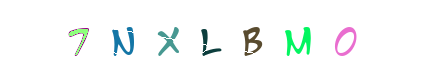0: (262, 0, 342, 80)
7: (105, 0, 185, 80)
B: (194, 0, 274, 80)
L: (182, 0, 262, 80)
M: (259, 0, 339, 80)
N: (128, 0, 208, 80)
X: (167, 0, 247, 80)
